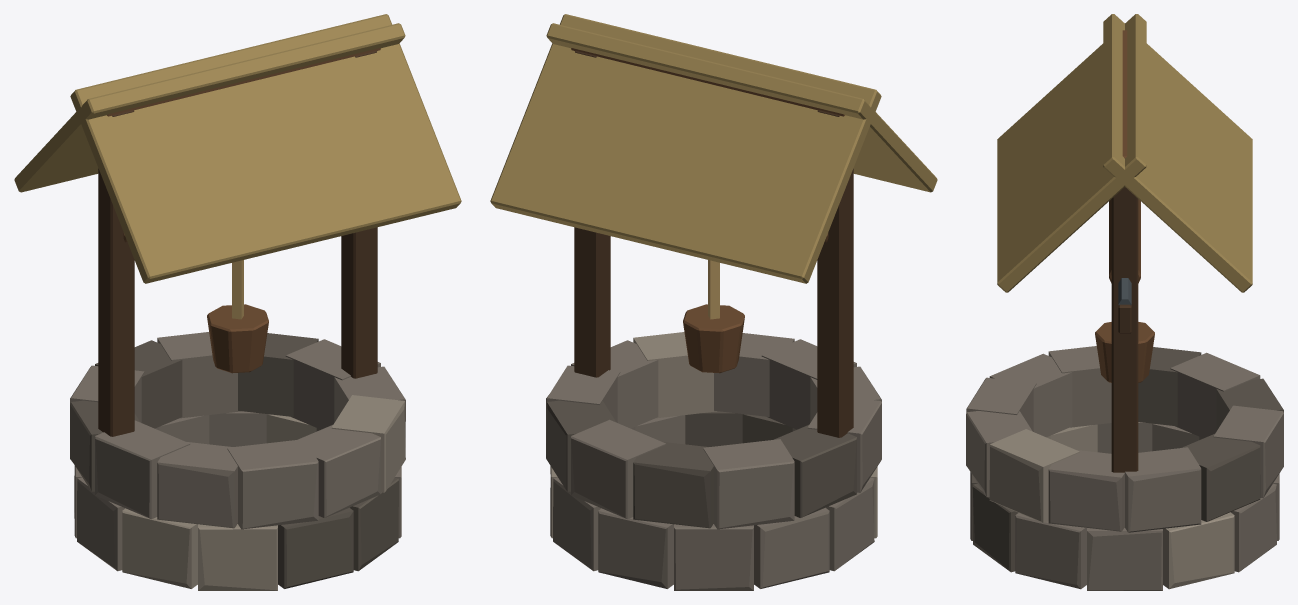
File: mdvl_village_well_01.glb
3 views of the same model, side by side, from view 1: azimuth 30°, elevation 25°; view 2: azimuth 150°, elevation 25°; view 3: azimuth 270°, elevation 25° (orthographic). The views are drawn at different scales.
Visible parts, largest first — view 1: mdvl_village_well_01; view 2: mdvl_village_well_01; view 3: mdvl_village_well_01.
Boxes of the visible parts, x1,y1,x2,y2 form: mdvl_village_well_01: (14, 14, 461, 590); mdvl_village_well_01: (490, 14, 937, 590); mdvl_village_well_01: (966, 14, 1283, 590).
Bounding box in the file's own units: 1.68 × 2.22 × 1.44.
Materials: 1 (1 with a texture image).
